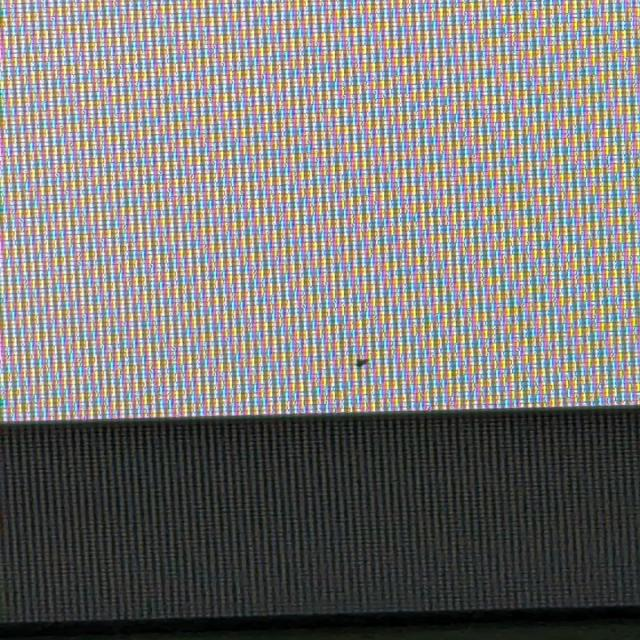Dead pixel: (355, 358, 371, 367)
